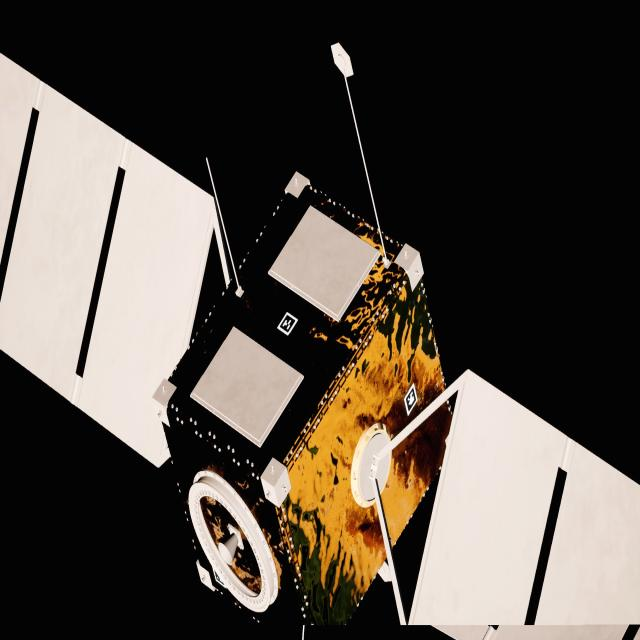medium_debris: (0, 53, 640, 640)
